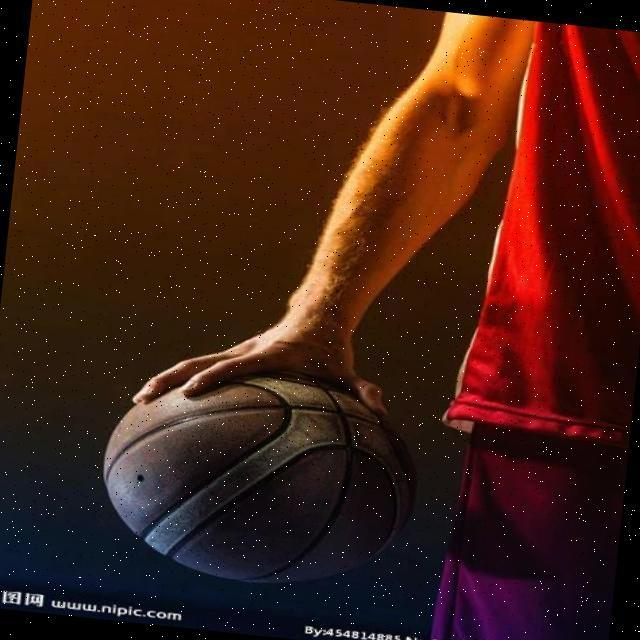ball: (92, 362, 428, 602)
